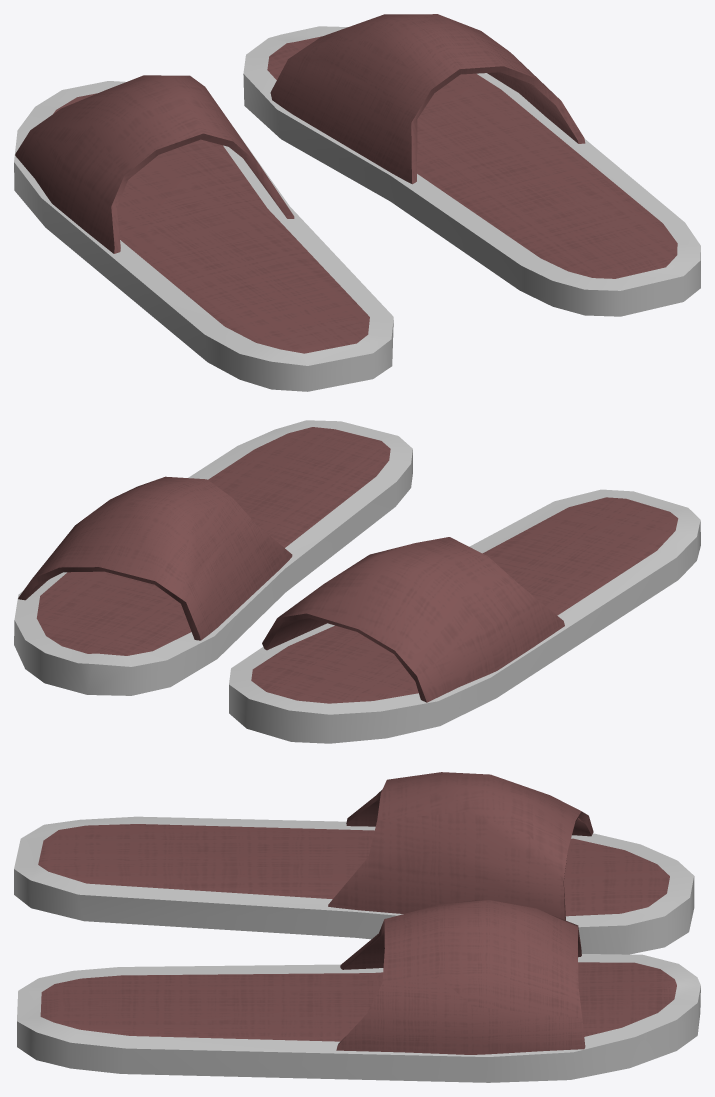
Rendered from HomeSlippers.fbx.
3 renders of one model, top to bottom at view 1: azimuth 30°, elevation 25°; view 2: azimuth 150°, elevation 25°; view 3: azimuth 270°, elevation 25°, orthographic. The views are drawn at different scales.
Visible parts, largest first — view 1: HomeSlippers_R, HomeSlippers_L; view 2: HomeSlippers_L, HomeSlippers_R; view 3: HomeSlippers_R, HomeSlippers_L.
Part boxes in pixels (<box>): HomeSlippers_R: <box>243,14,700,316</box>; HomeSlippers_L: <box>14,75,393,391</box>; HomeSlippers_L: <box>229,489,700,743</box>; HomeSlippers_R: <box>14,420,412,695</box>; HomeSlippers_R: <box>17,900,700,1082</box>; HomeSlippers_L: <box>14,772,694,954</box>.
Size of the model in its own units: 18.84 by 4.43 by 22.75.
